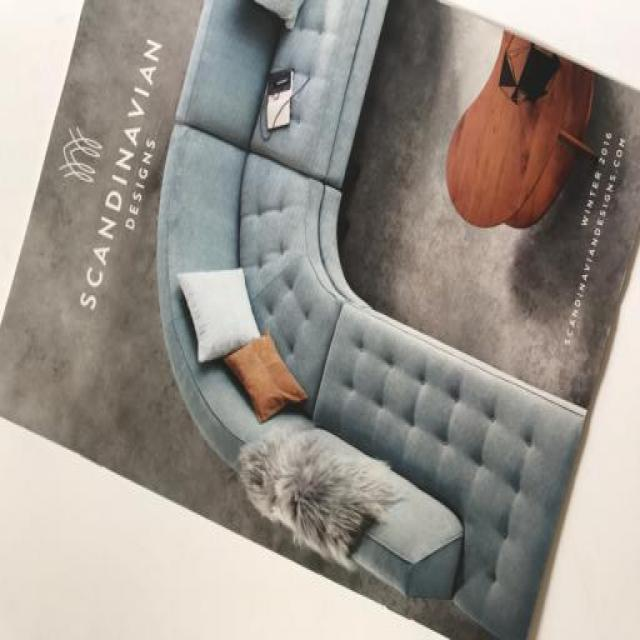paper: (12, 1, 633, 640)
